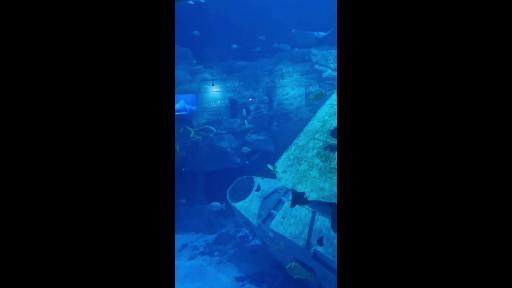Fish: (306, 201, 337, 233), (286, 263, 312, 281), (290, 190, 310, 208), (186, 126, 216, 137), (175, 100, 197, 113), (307, 28, 333, 38), (309, 91, 326, 101), (208, 202, 225, 210), (324, 143, 337, 153), (272, 43, 290, 50), (330, 126, 337, 139), (268, 165, 278, 173), (276, 242, 284, 251), (317, 236, 323, 246), (242, 147, 251, 153), (262, 96, 269, 103), (192, 135, 201, 140), (192, 31, 200, 35), (179, 199, 186, 203), (232, 45, 239, 49), (242, 109, 246, 116), (245, 120, 248, 129), (176, 145, 179, 154), (259, 36, 265, 40), (255, 48, 261, 51), (334, 90, 337, 95), (188, 1, 194, 3), (200, 0, 205, 2)
